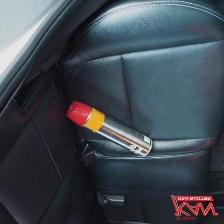aerosol_cans: (59, 97, 156, 160)
